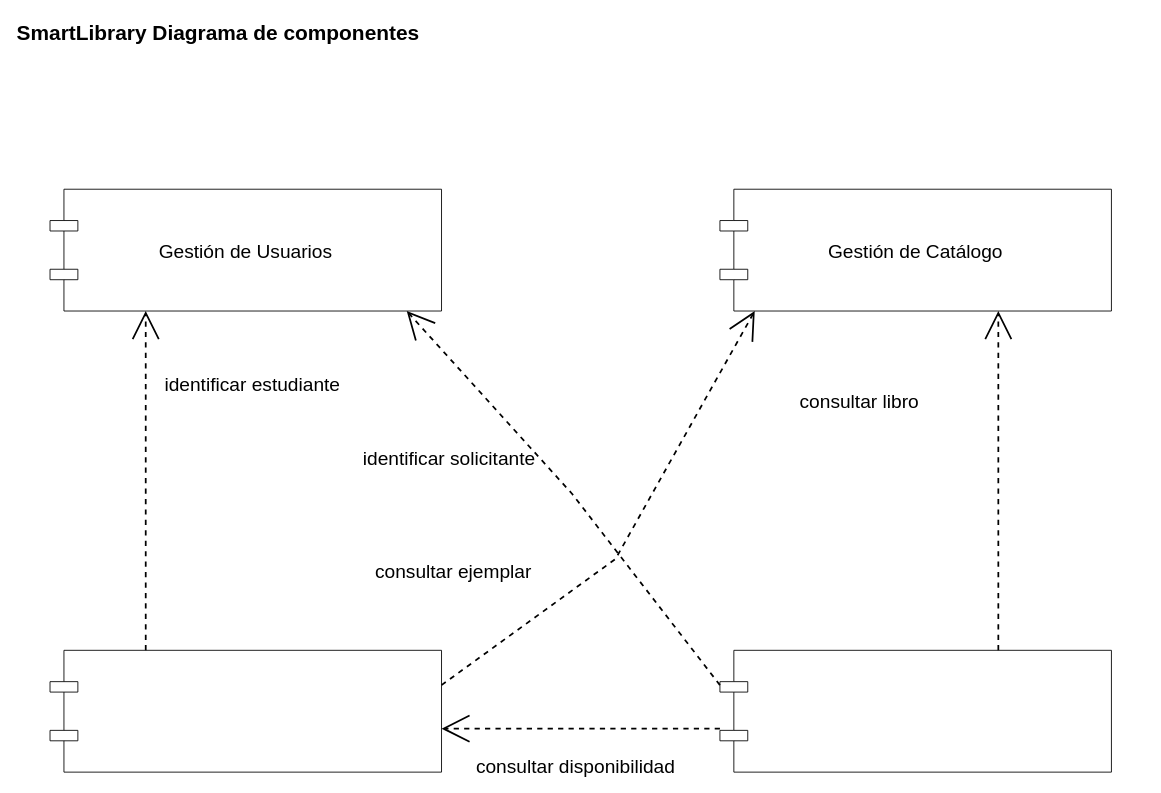
Image size: 1161x793. Some labels were removed from this diagram. Here are the shapes that lost their labels. From the top down, the centre of each, then its label:
(245,710): Gestión de Préstamos
(915,710): Gestión de Reservas
